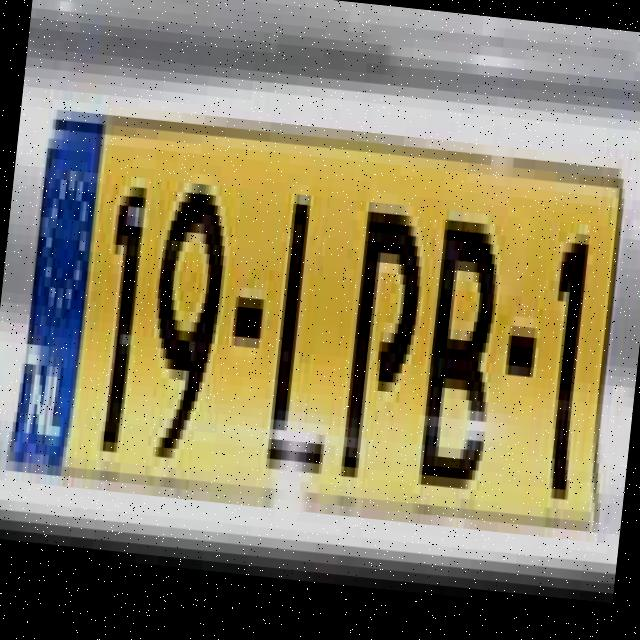EU: (8, 135, 621, 508)
Pays-Bas: (7, 118, 106, 467)
